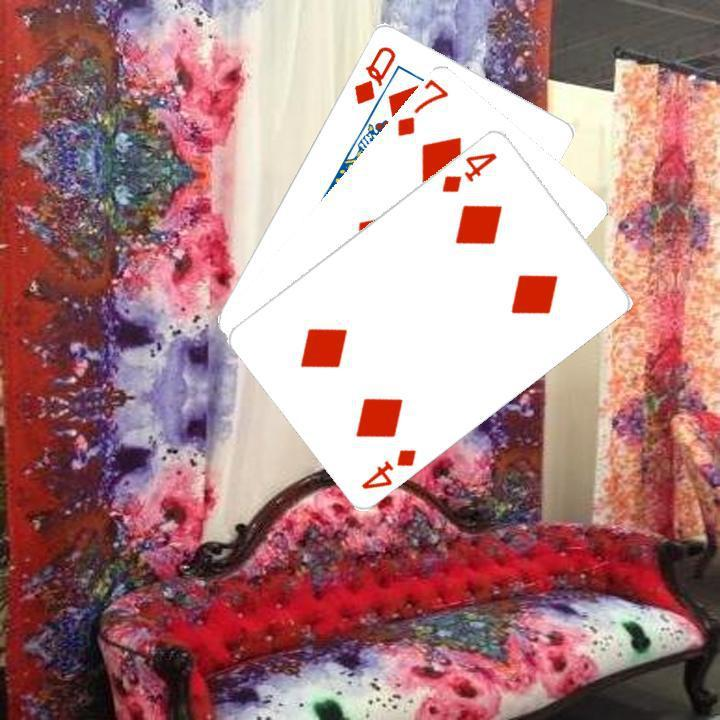4: (437, 147, 499, 195), (357, 443, 419, 491)
7: (392, 76, 451, 138)
Q: (349, 41, 398, 106)
